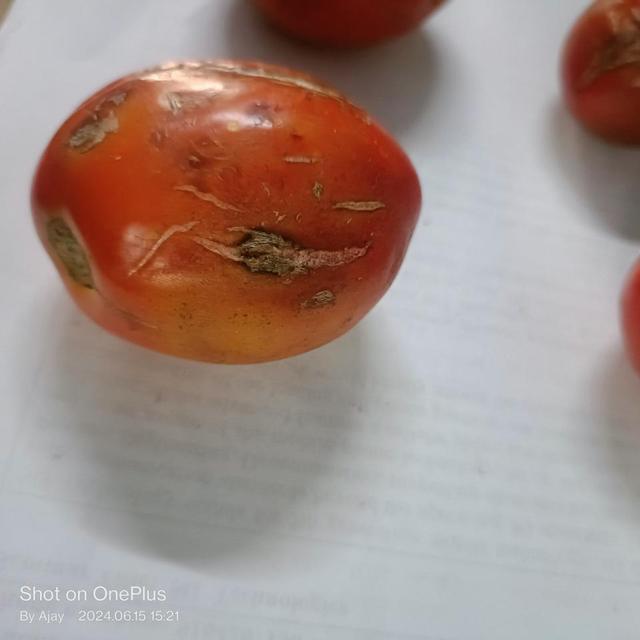Cracking Fruit: (37, 68, 266, 170)
